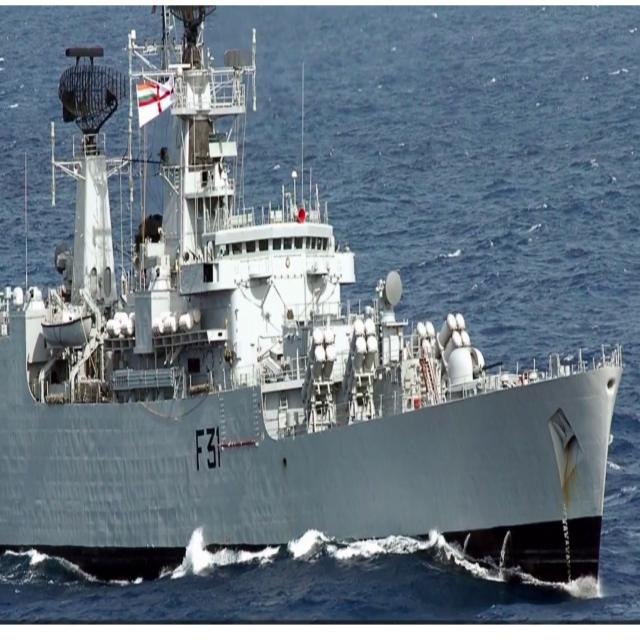OCR: (189, 419, 221, 479)
